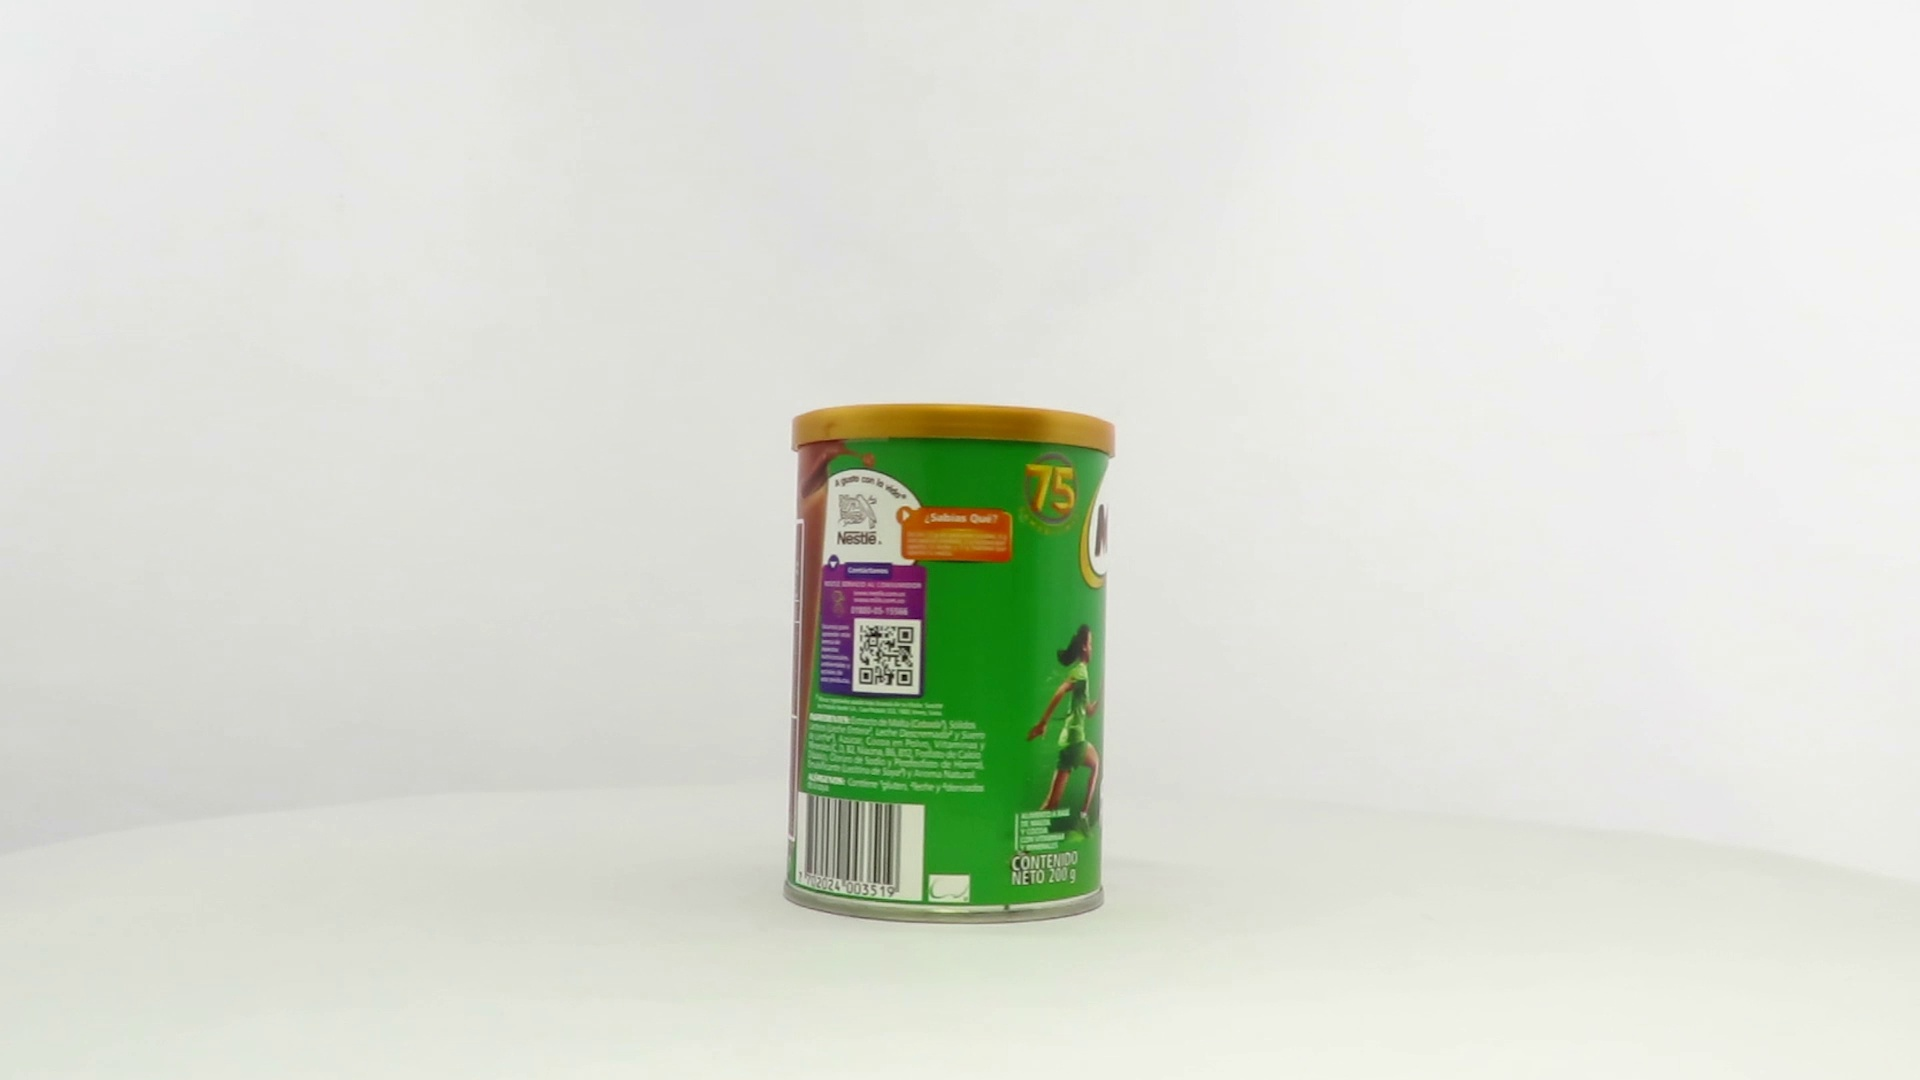COL0170203LAT20000: (777, 398, 1122, 931)
